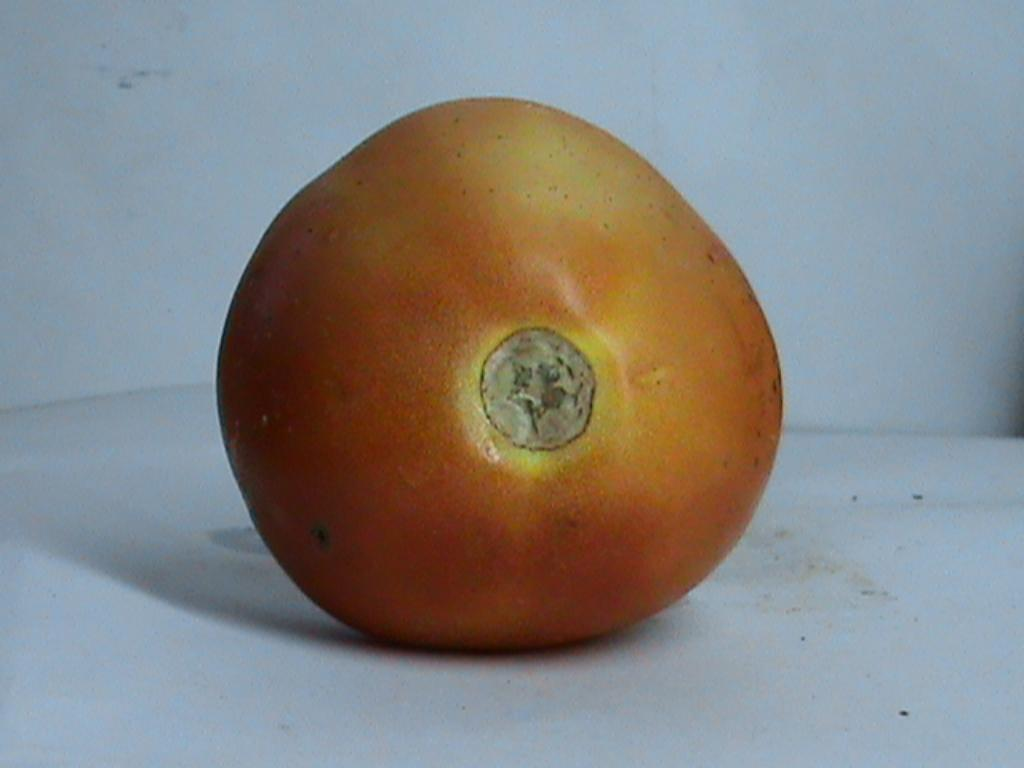bruise_discoloration: (454, 110, 778, 496)
tomato: (218, 101, 779, 648)
